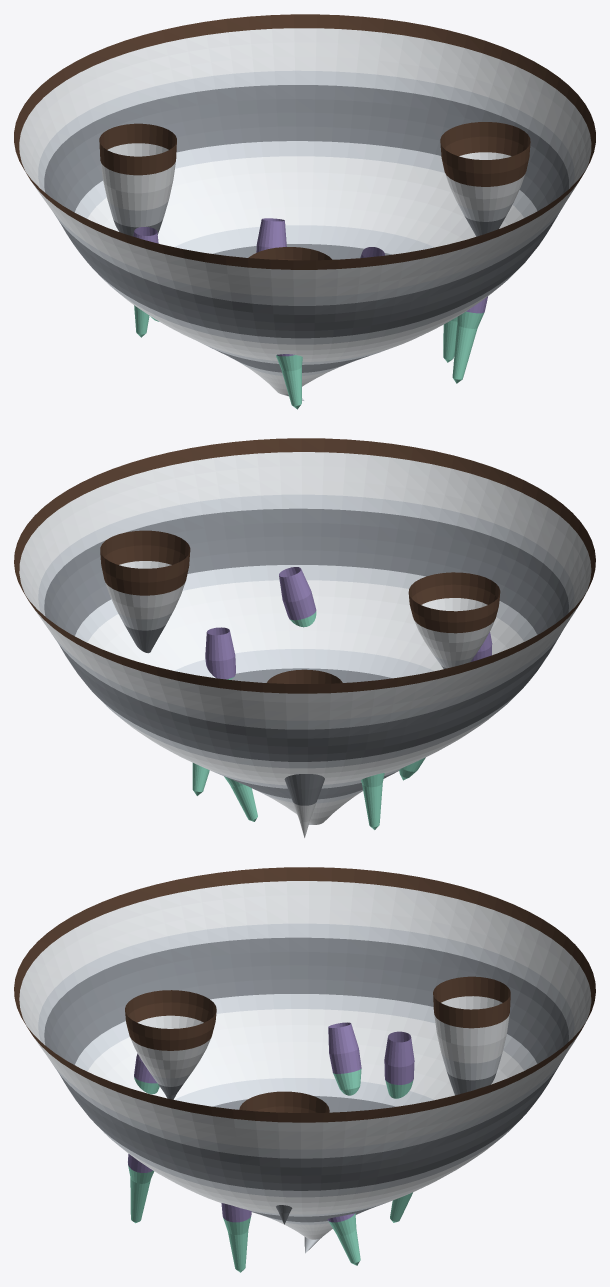
The model's file is IslandKeelCrystal.obj.
3 renders of one model, top to bottom at view 1: azimuth 30°, elevation 25°; view 2: azimuth 150°, elevation 25°; view 3: azimuth 270°, elevation 25°, orthographic.
Size of the model in its own units: 20 by 10 by 20.
